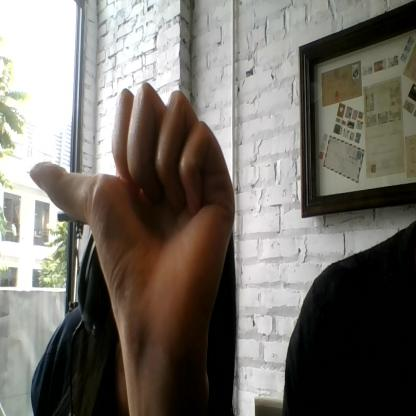right: (29, 81, 235, 341)
